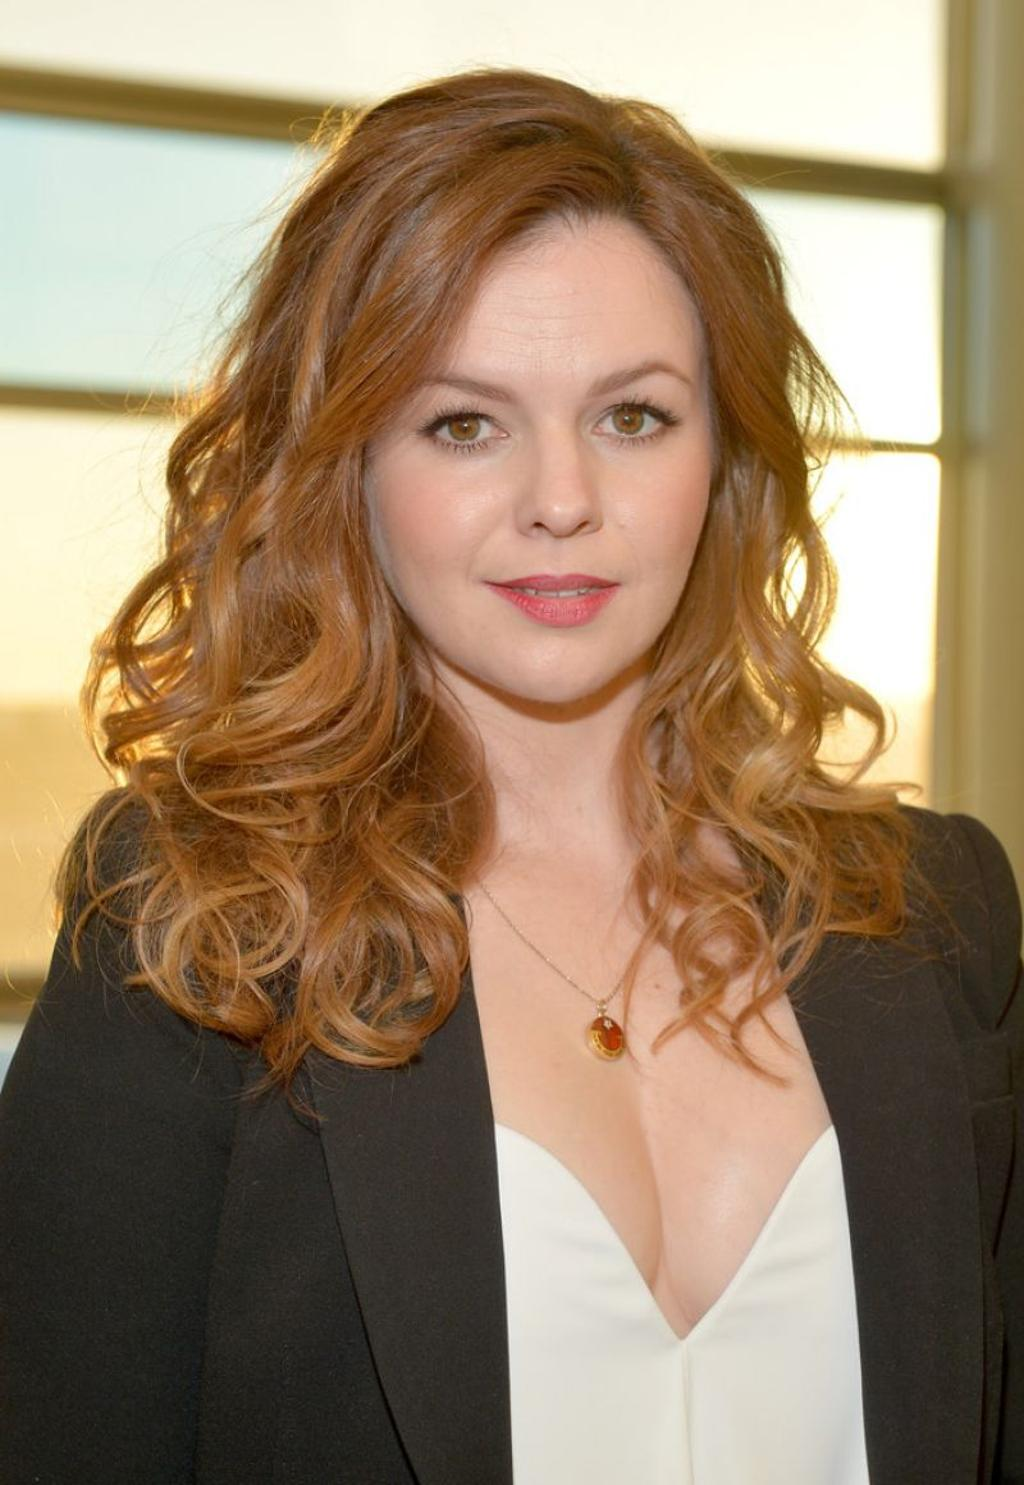face: (351, 212, 708, 696)
